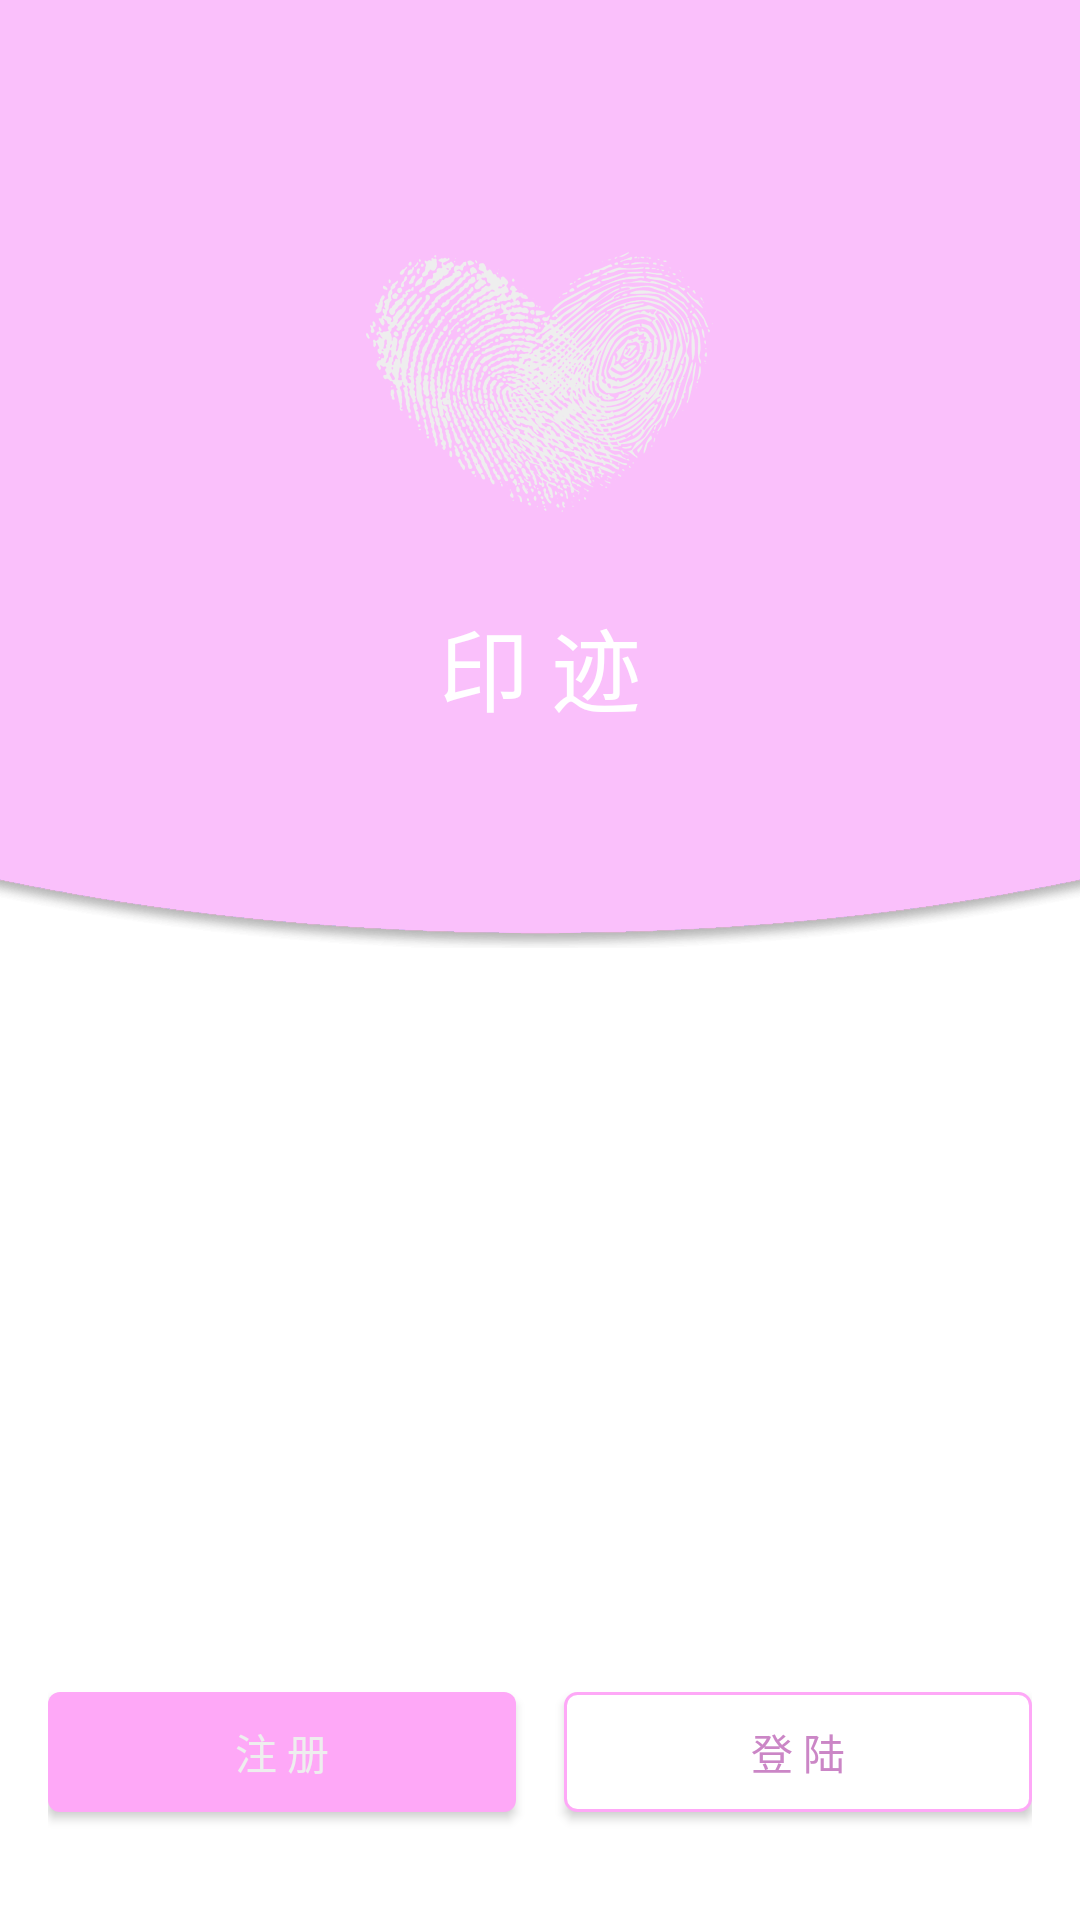

Icon click points for this 1080 x 1920 phone screenshot, format (x,y):
finger: (538,382)
